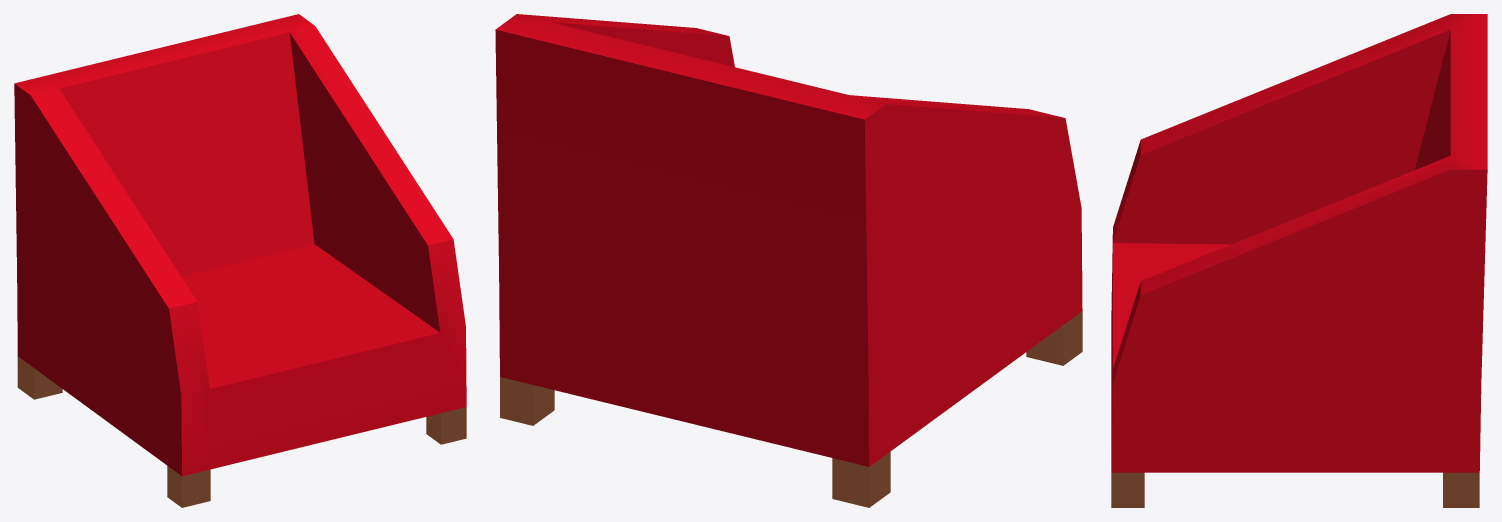
File: fauteuil.fbx
3 views of the same model, side by side, from view 1: azimuth 30°, elevation 25°; view 2: azimuth 150°, elevation 25°; view 3: azimuth 270°, elevation 25° (orthographic). The views are drawn at different scales.
Parts seen in each view (by area): view 1: Fauteuil; view 2: Fauteuil; view 3: Fauteuil.
Boxes of the visible parts, x1,y1,x2,y2 form: Fauteuil: (14,14,466,507); Fauteuil: (495,14,1082,507); Fauteuil: (1111,14,1487,507).
Bounding box in the file's own units: 100 × 101 × 102.
